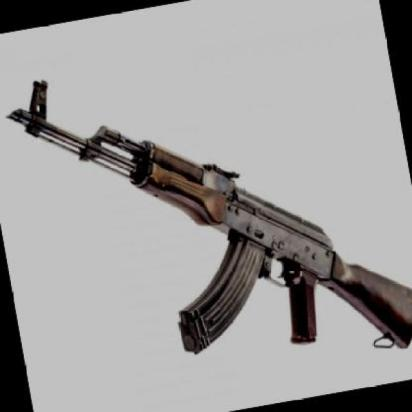Gun: (0, 15, 412, 410)
